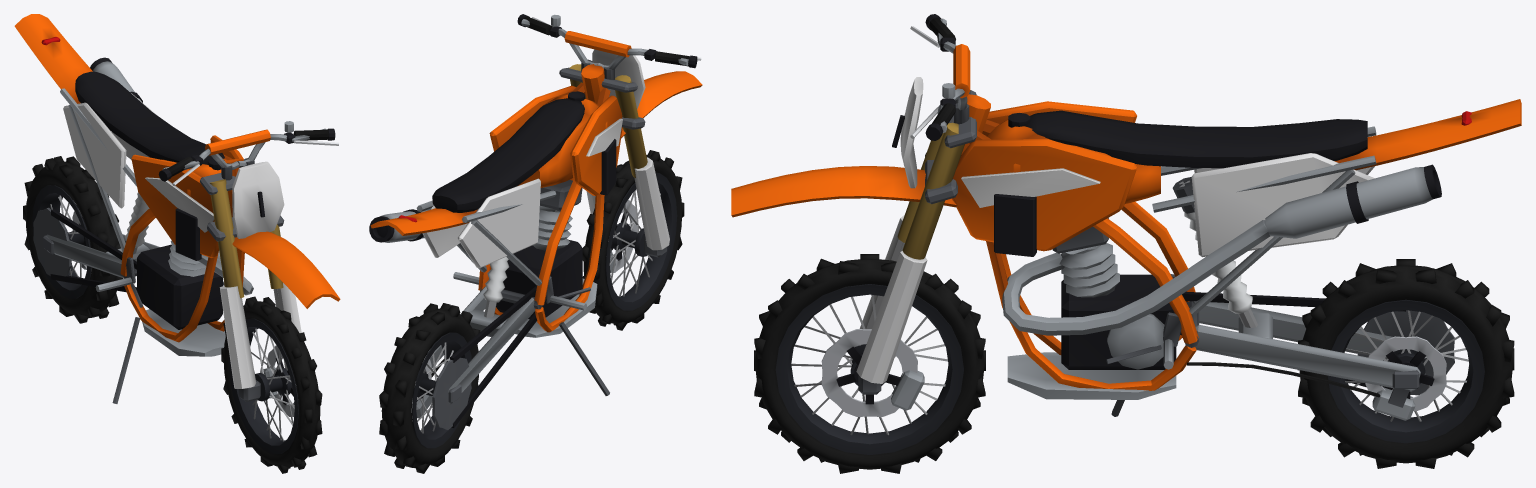
Rendered from dirt.glb.
The picture shows the model from 3 angles, left to right: view 1: azimuth 30°, elevation 25°; view 2: azimuth 150°, elevation 25°; view 3: azimuth 270°, elevation 25°; orthographic projection. The views are drawn at different scales.
Visible parts, largest first — view 1: body, wheel_front, wheel_rear, fork_left, handlebar, fork_right, disc_front; view 2: body, wheel_rear, wheel_front, fork_left, handlebar, disc_front; view 3: body, wheel_rear, wheel_front, fork_right, disc_front, handlebar, disc_rear, fork_left.
Part boxes in pixels (x1=…): body: x1=14, y1=14, x2=340, y2=403; wheel_front: x1=221, y1=296, x2=322, y2=473; wheel_rear: x1=23, y1=156, x2=123, y2=323; fork_left: x1=210, y1=179, x2=260, y2=401; handlebar: x1=158, y1=121, x2=338, y2=185; fork_right: x1=261, y1=224, x2=301, y2=398; disc_front: x1=267, y1=345, x2=298, y2=416; body: x1=369, y1=49, x2=702, y2=427; wheel_rear: x1=379, y1=303, x2=480, y2=473; wheel_front: x1=582, y1=150, x2=684, y2=330; fork_left: x1=615, y1=75, x2=669, y2=257; handlebar: x1=517, y1=14, x2=701, y2=79; disc_front: x1=611, y1=200, x2=637, y2=272; body: x1=731, y1=77, x2=1521, y2=420; wheel_rear: x1=1298, y1=259, x2=1514, y2=468; wheel_front: x1=754, y1=254, x2=985, y2=473; fork_right: x1=856, y1=122, x2=964, y2=410; disc_front: x1=821, y1=329, x2=917, y2=416; handlebar: x1=910, y1=14, x2=970, y2=140; disc_rear: x1=1365, y1=336, x2=1446, y2=410; fork_left: x1=859, y1=133, x2=943, y2=329.
Size of the model in its own units: 0.7087 by 1.19 by 2.06.
